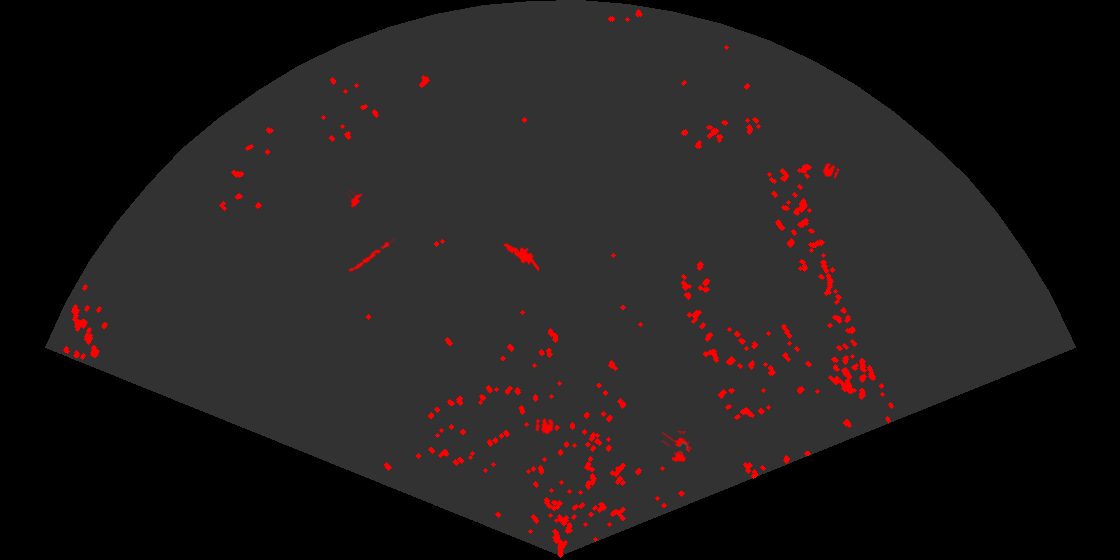AUV: (346, 190, 364, 209)
ball: (534, 417, 555, 436), (821, 161, 841, 180)
cage: (662, 431, 693, 464)
chain: (347, 237, 395, 273)
frogman: (502, 241, 539, 271)
